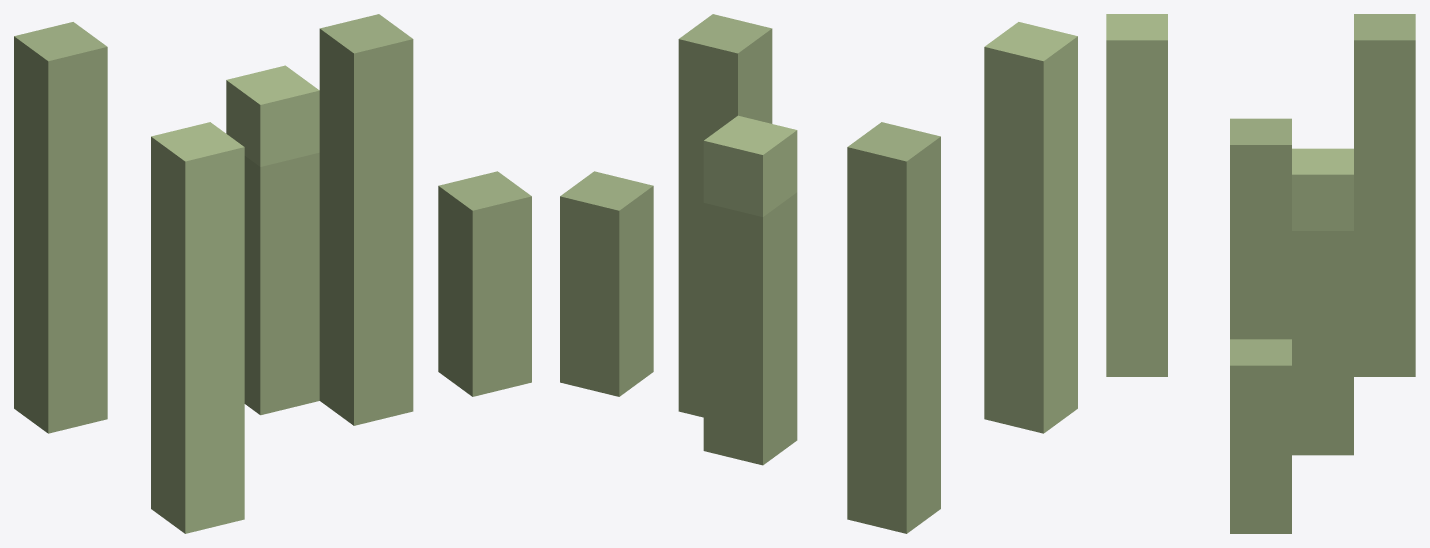
The model's file is muerdago_02.glb.
3 views of the same model, side by side, from view 1: azimuth 30°, elevation 25°; view 2: azimuth 150°, elevation 25°; view 3: azimuth 270°, elevation 25° (orthographic). The views are drawn at different scales.
Visible parts, largest first — view 1: muerdago_02; view 2: muerdago_02; view 3: muerdago_02.
Boxes of the visible parts, left/top/right/bottom form: muerdago_02: left=14, top=14, right=531, bottom=533; muerdago_02: left=560, top=14, right=1077, bottom=533; muerdago_02: left=1106, top=14, right=1415, bottom=533.
Bounding box in the file's own units: 0.7 × 0.6 × 0.5.
